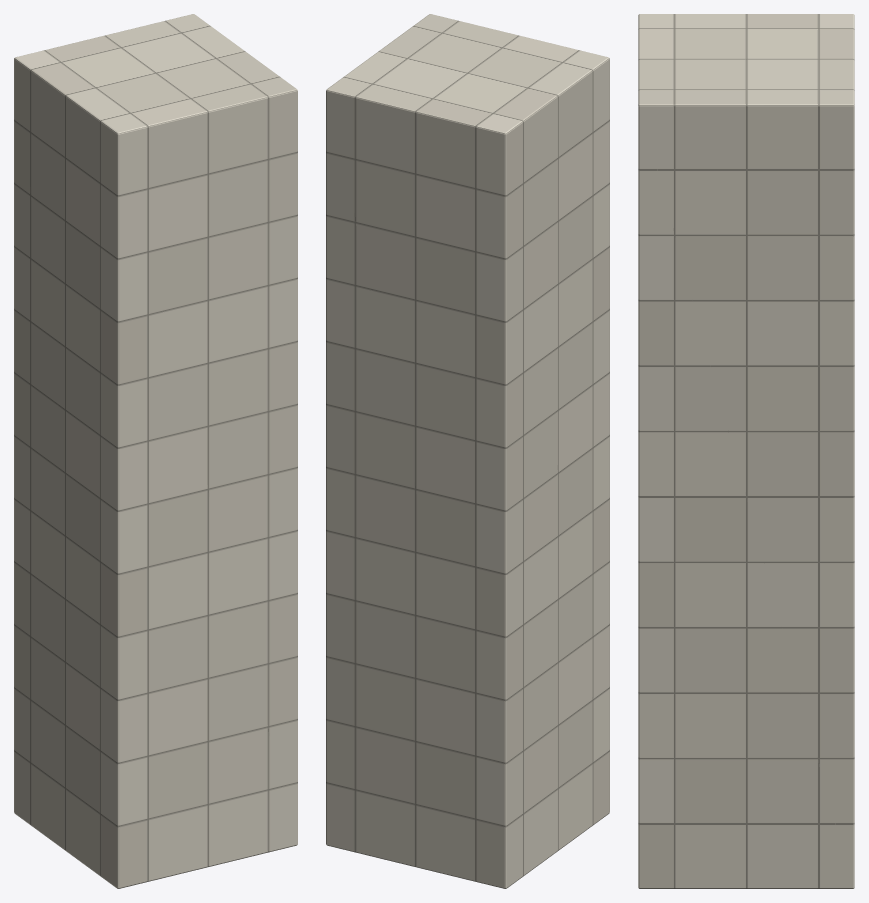
File: MOD_33_Pillar_Square.glb
The picture shows the model from 3 angles, left to right: view 1: azimuth 30°, elevation 25°; view 2: azimuth 150°, elevation 25°; view 3: azimuth 270°, elevation 25°; orthographic projection. The views are drawn at different scales.
Parts seen in each view (by area): view 1: MOD_33_Pillar_Square_Export; view 2: MOD_33_Pillar_Square_Export; view 3: MOD_33_Pillar_Square_Export.
Part boxes in pixels (x1,y1,x2,y2): MOD_33_Pillar_Square_Export: [14, 14, 297, 888]; MOD_33_Pillar_Square_Export: [326, 14, 609, 888]; MOD_33_Pillar_Square_Export: [638, 14, 854, 888].
Size of the model in its own units: 0.75 by 3 by 0.75.
1 material, 1 textured.
